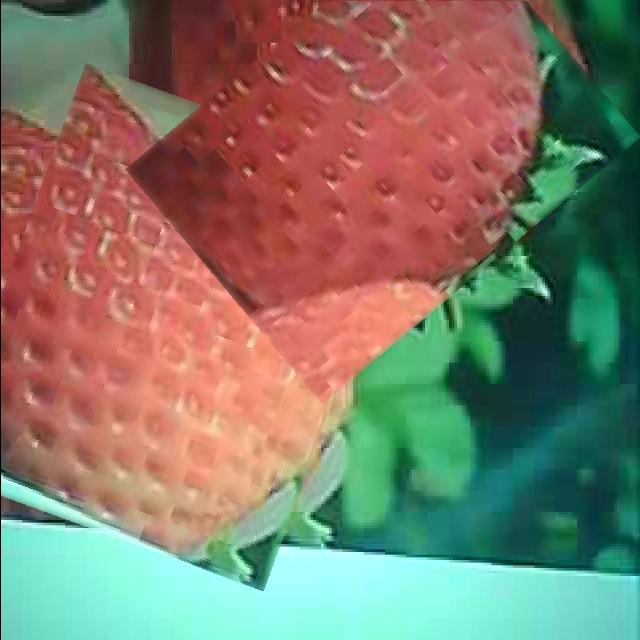strawberry: (0, 86, 380, 568), (149, 0, 615, 356)
